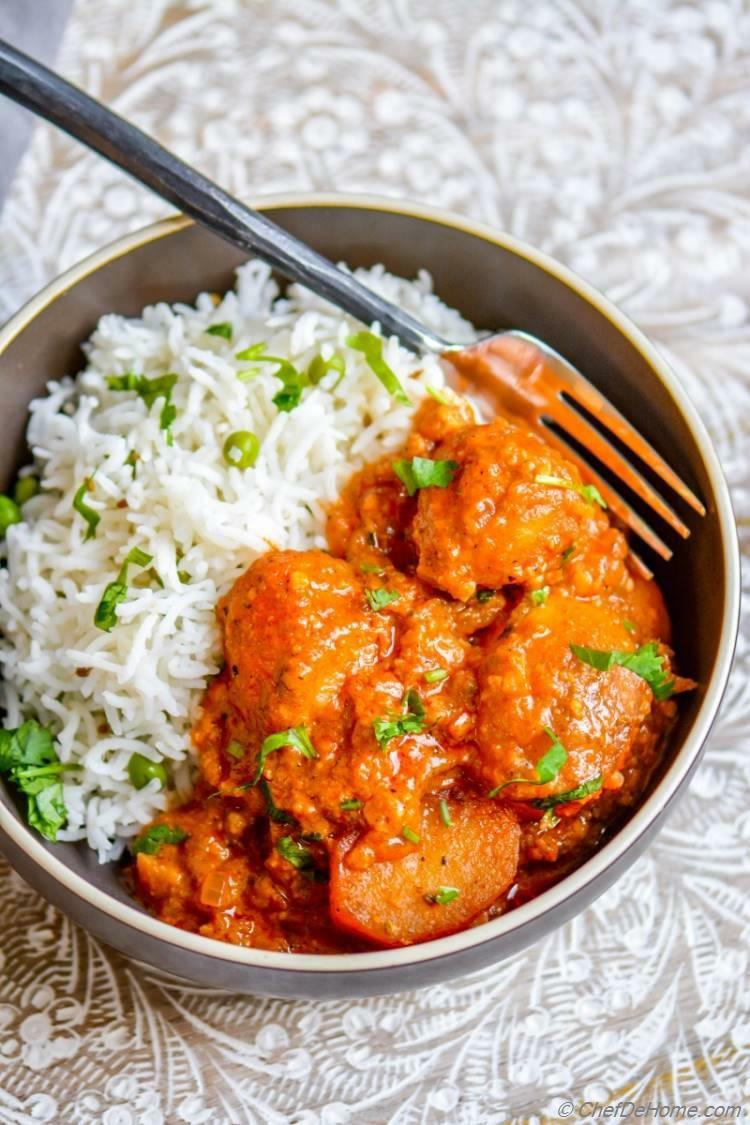DumAloo: (128, 405, 690, 945)
